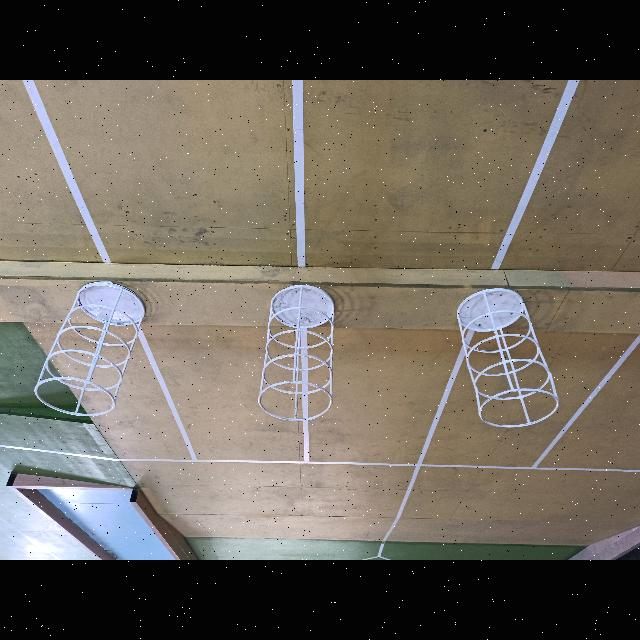S: (33, 279, 144, 416), (454, 287, 559, 427), (256, 284, 334, 420)
